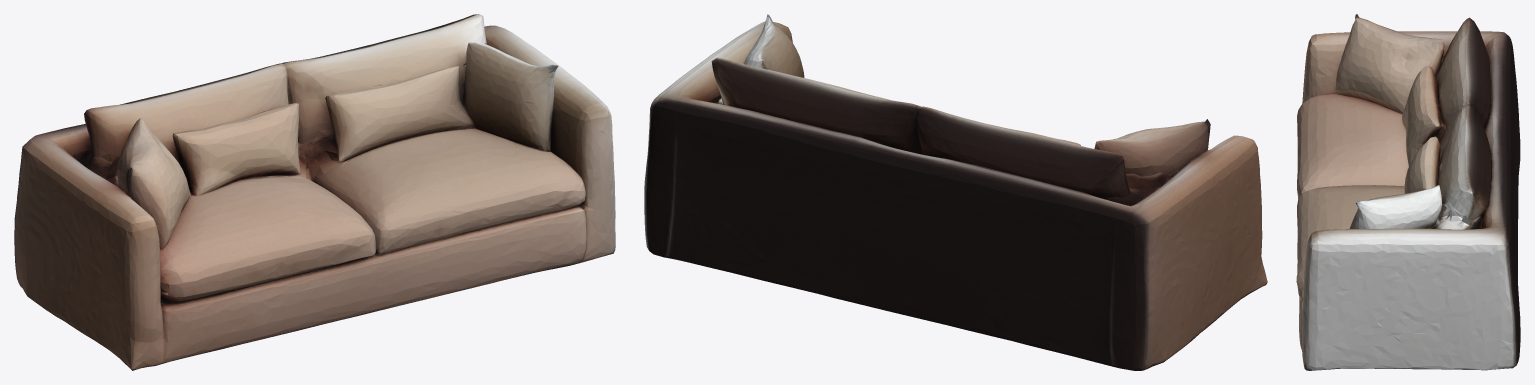
3 renders of one model, left to right at view 1: azimuth 30°, elevation 25°; view 2: azimuth 150°, elevation 25°; view 3: azimuth 270°, elevation 25°, orthographic. The views are drawn at different scales.
Visible parts, largest first — view 1: world; view 2: world; view 3: world.
Boxes of the visible parts, left/top/right/bottom form: world: left=14, top=14, right=615, bottom=370; world: left=644, top=14, right=1267, bottom=370; world: left=1296, top=14, right=1520, bottom=370.
Bounding box in the file's own units: 0.9982 × 0.3543 × 0.4391.
Materials: 1 (1 with a texture image).
